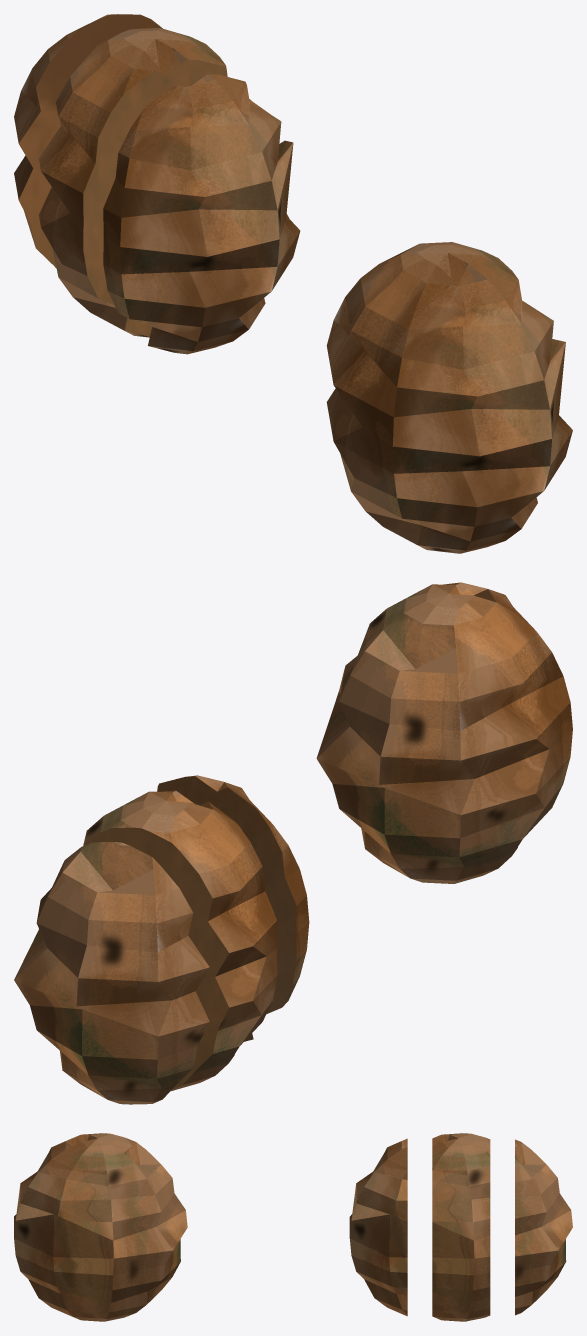
Rendered from papas cocina.fbx.
3 renders of one model, top to bottom at view 1: azimuth 30°, elevation 25°; view 2: azimuth 150°, elevation 25°; view 3: azimuth 270°, elevation 25°, orthographic. The views are drawn at different scales.
Visible parts, largest first — view 1: Sphere, Papa_Trozo_1, Papa_Trozo_2, Papa_Trozo_3; view 2: Sphere, Papa_Trozo_3, Papa_Trozo_2, Papa_Trozo_1; view 3: Sphere, Papa_Trozo_2, Papa_Trozo_1, Papa_Trozo_3.
Boxes of the visible parts, bbox=[...] form: Sphere: bbox=[326, 242, 572, 553]; Papa_Trozo_1: bbox=[103, 74, 300, 354]; Papa_Trozo_2: bbox=[39, 27, 251, 337]; Papa_Trozo_3: bbox=[14, 14, 162, 268]; Sphere: bbox=[316, 582, 572, 883]; Papa_Trozo_3: bbox=[14, 842, 209, 1104]; Papa_Trozo_2: bbox=[83, 790, 277, 1091]; Papa_Trozo_1: bbox=[157, 775, 309, 1041]; Sphere: bbox=[14, 1133, 187, 1321]; Papa_Trozo_2: bbox=[432, 1133, 490, 1321]; Papa_Trozo_1: bbox=[349, 1138, 407, 1316]; Papa_Trozo_3: bbox=[515, 1139, 572, 1315].
Bounding box in the file's own units: 177 × 238 × 677.
Materials: 2 (2 with a texture image).
